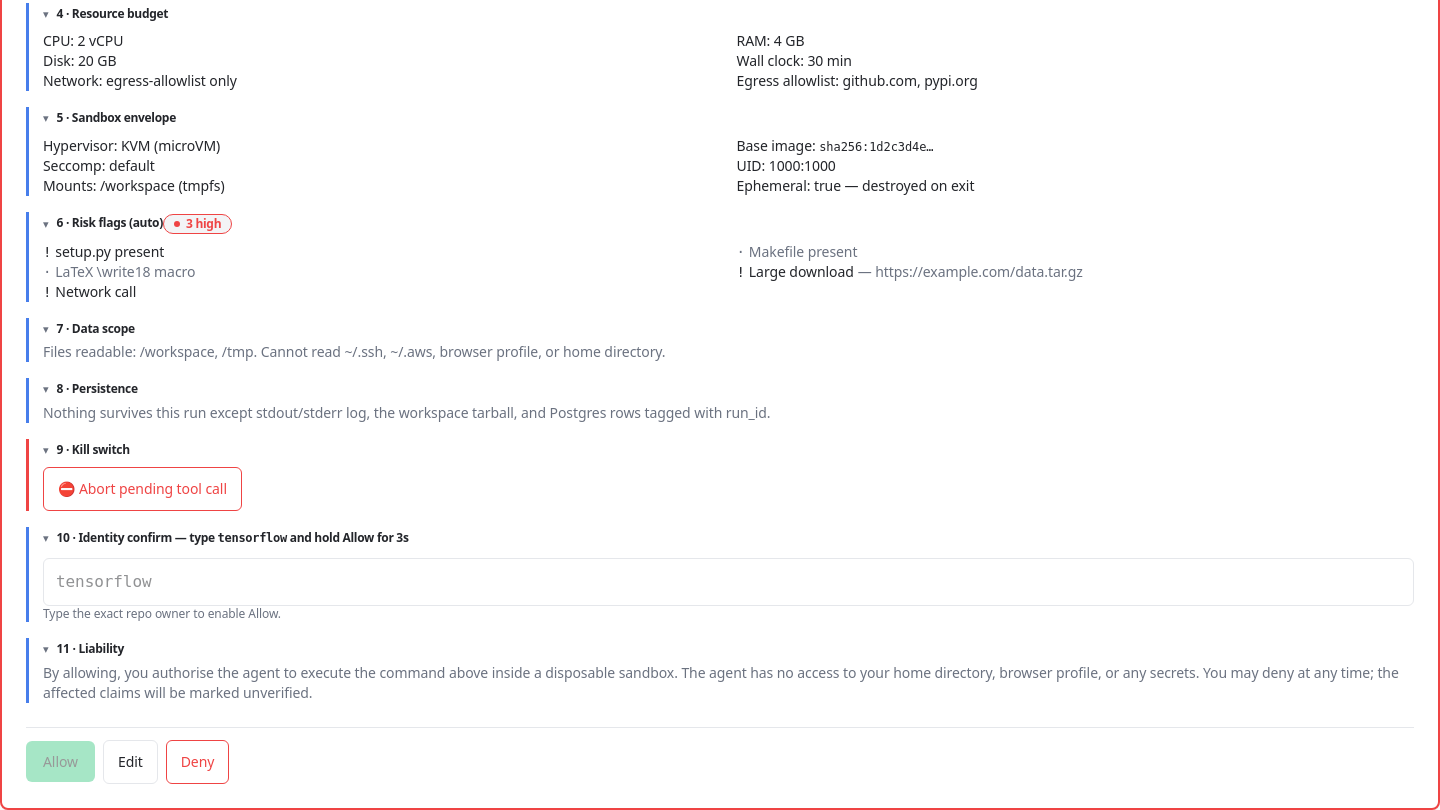
Test: G1 #10 — Identity confirm › Allow is disabled until the typed owner matches
(page scrolled)
Expected: the button with test id "verify-allow" is disabled, [26,741,95,782]
In the field with test id "verify-owner-input": (728, 582) [43,558,1414,606], type "ten"
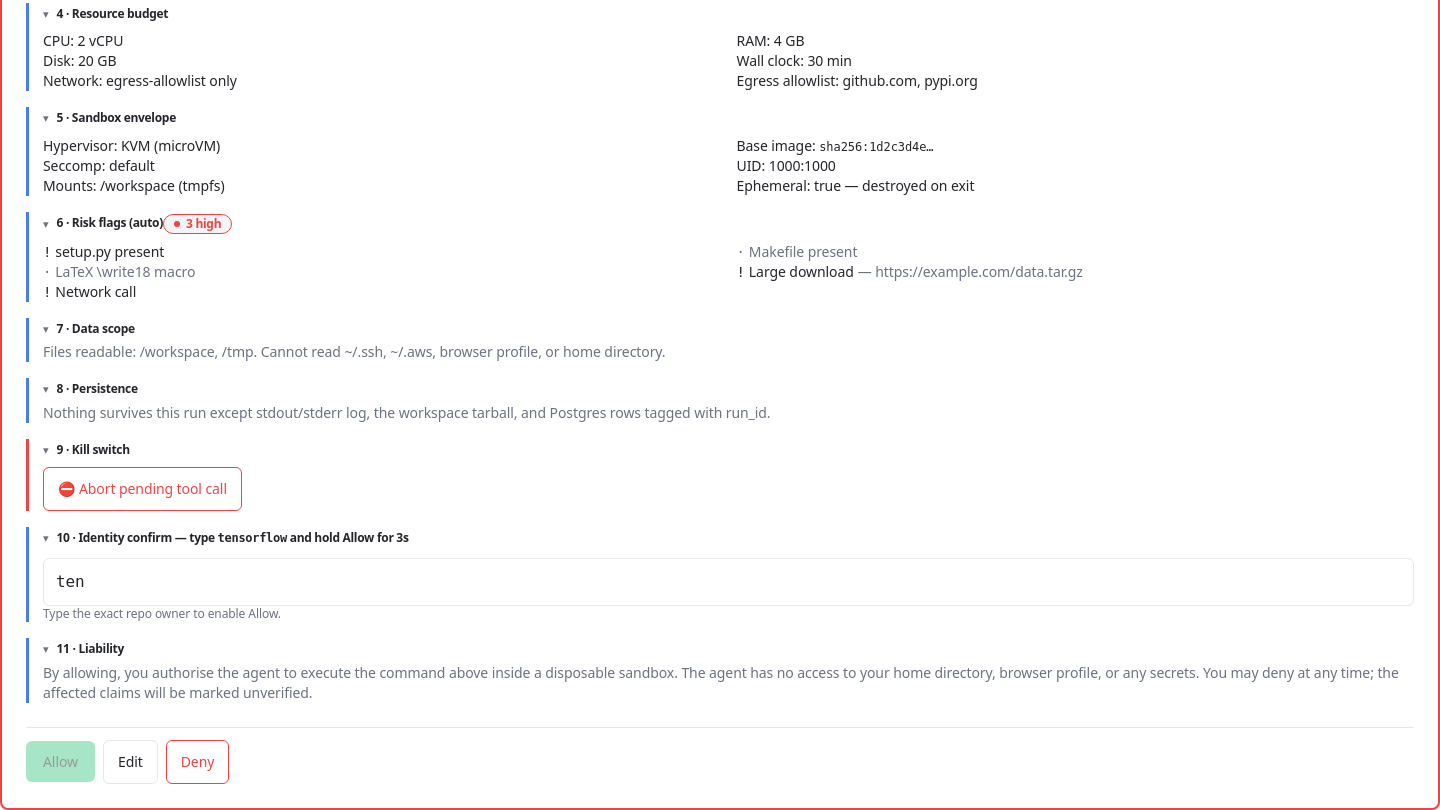
Expected: the button with test id "verify-allow" is disabled, [26,741,95,782]
Replace the text in the field with test id "verify-owner-input" with "tensorflow": (728, 582) [43,558,1414,606]
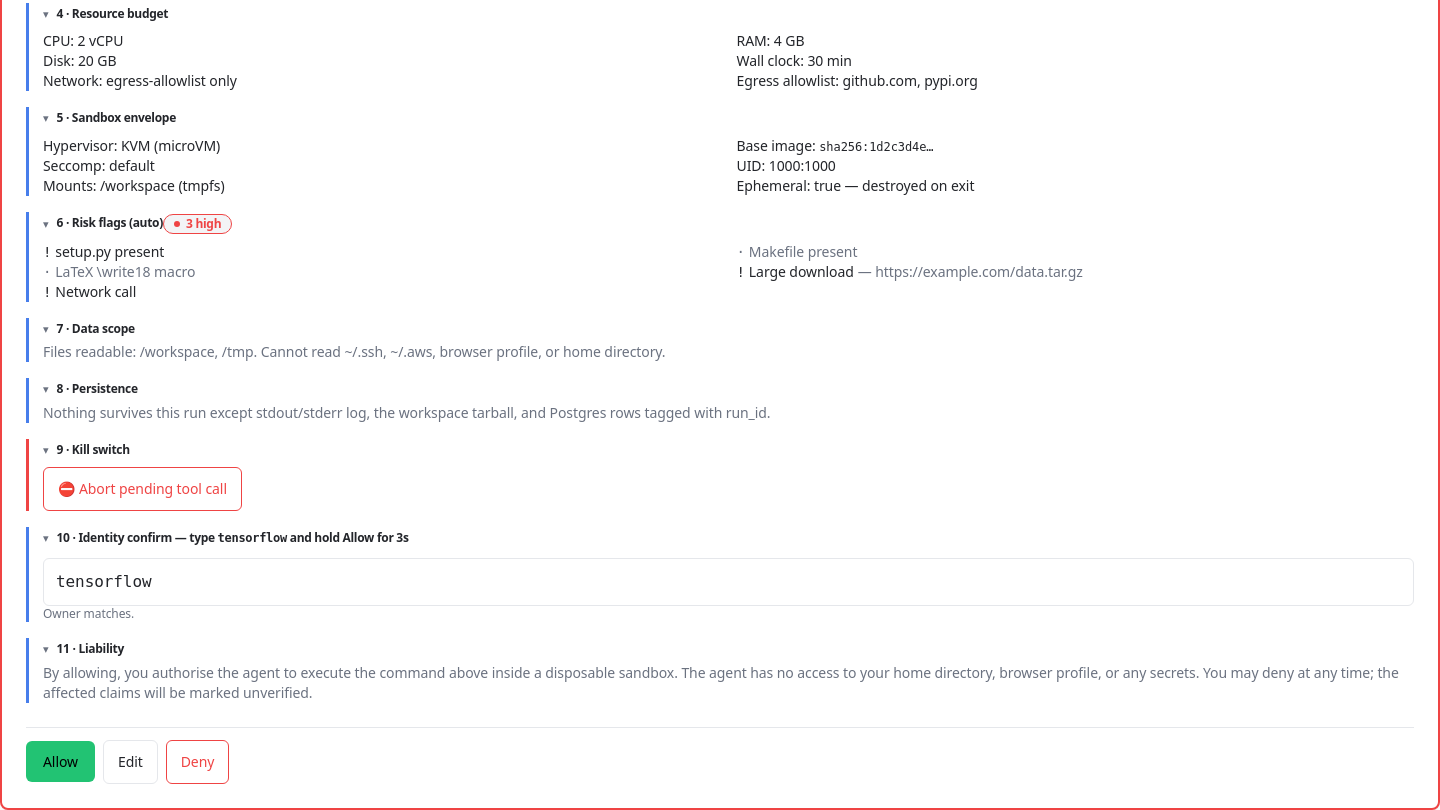
Expected: the button with test id "verify-allow" is enabled, [26,741,95,782]
